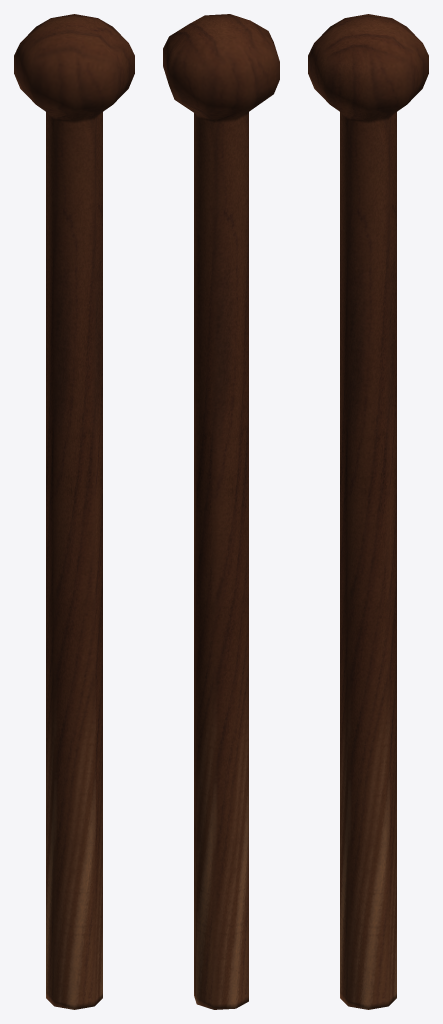
The model's file is XylofonStick.fbx.
3 renders of one model, left to right at view 1: azimuth 90°, elevation 25°; view 2: azimuth 210°, elevation 25°; view 3: azimuth 270°, elevation 25°, orthographic.
Visible parts, largest first — view 1: Cylinder.001; view 2: Cylinder.001; view 3: Cylinder.001.
Part boxes in pixels (x1,y1,x2,y2): Cylinder.001: [14, 14, 134, 1009]; Cylinder.001: [163, 14, 279, 1009]; Cylinder.001: [308, 14, 428, 1009].
Size of the model in its own units: 1.89 by 16.86 by 1.89.
Materials: 1 (1 with a texture image).
